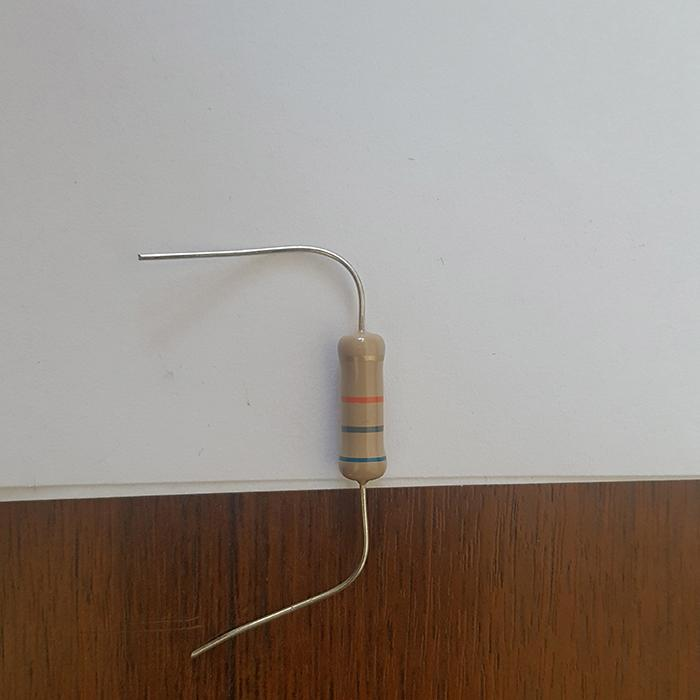resistor: (338, 329, 387, 481)
